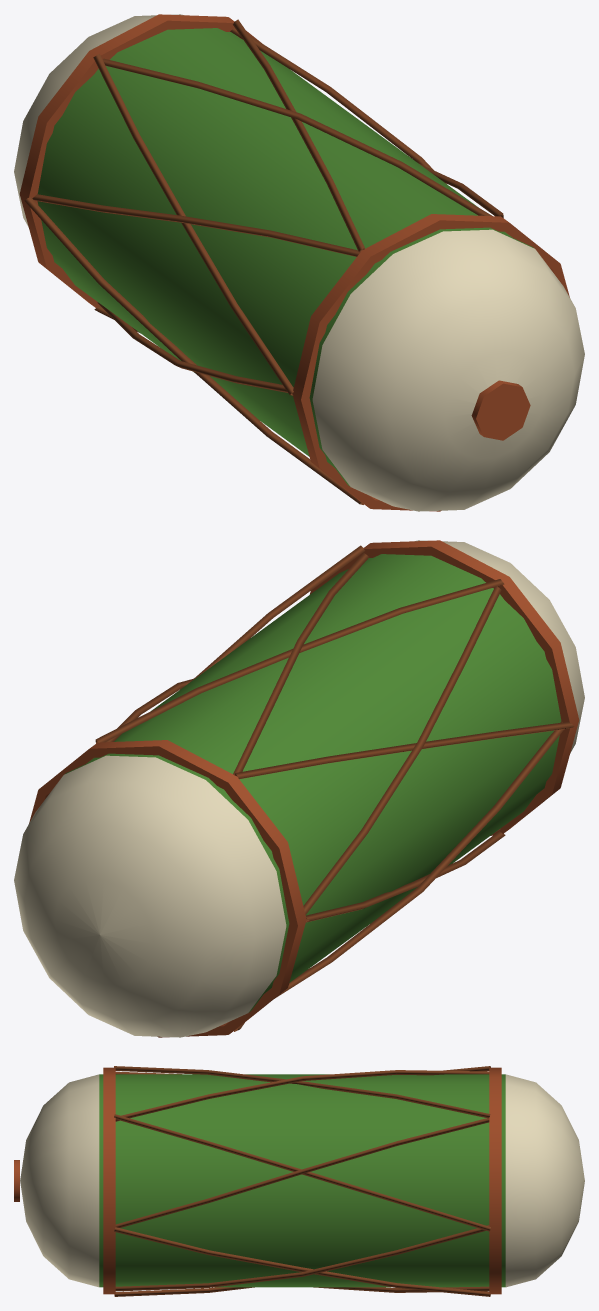
File: u500_scrubber.obj
The picture shows the model from 3 angles, top to bottom: view 1: azimuth 30°, elevation 25°; view 2: azimuth 150°, elevation 25°; view 3: azimuth 270°, elevation 25°; orthographic projection. The views are drawn at different scales.
Visible parts, largest first — view 1: u500_scrubber; view 2: u500_scrubber; view 3: u500_scrubber.
Part boxes in pixels (x1=…): u500_scrubber: x1=14, y1=14, x2=584, y2=511; u500_scrubber: x1=14, y1=540, x2=584, y2=1037; u500_scrubber: x1=14, y1=1066, x2=584, y2=1296.
Bounding box in the file's own units: 2.28 × 2.29 × 5.62.
